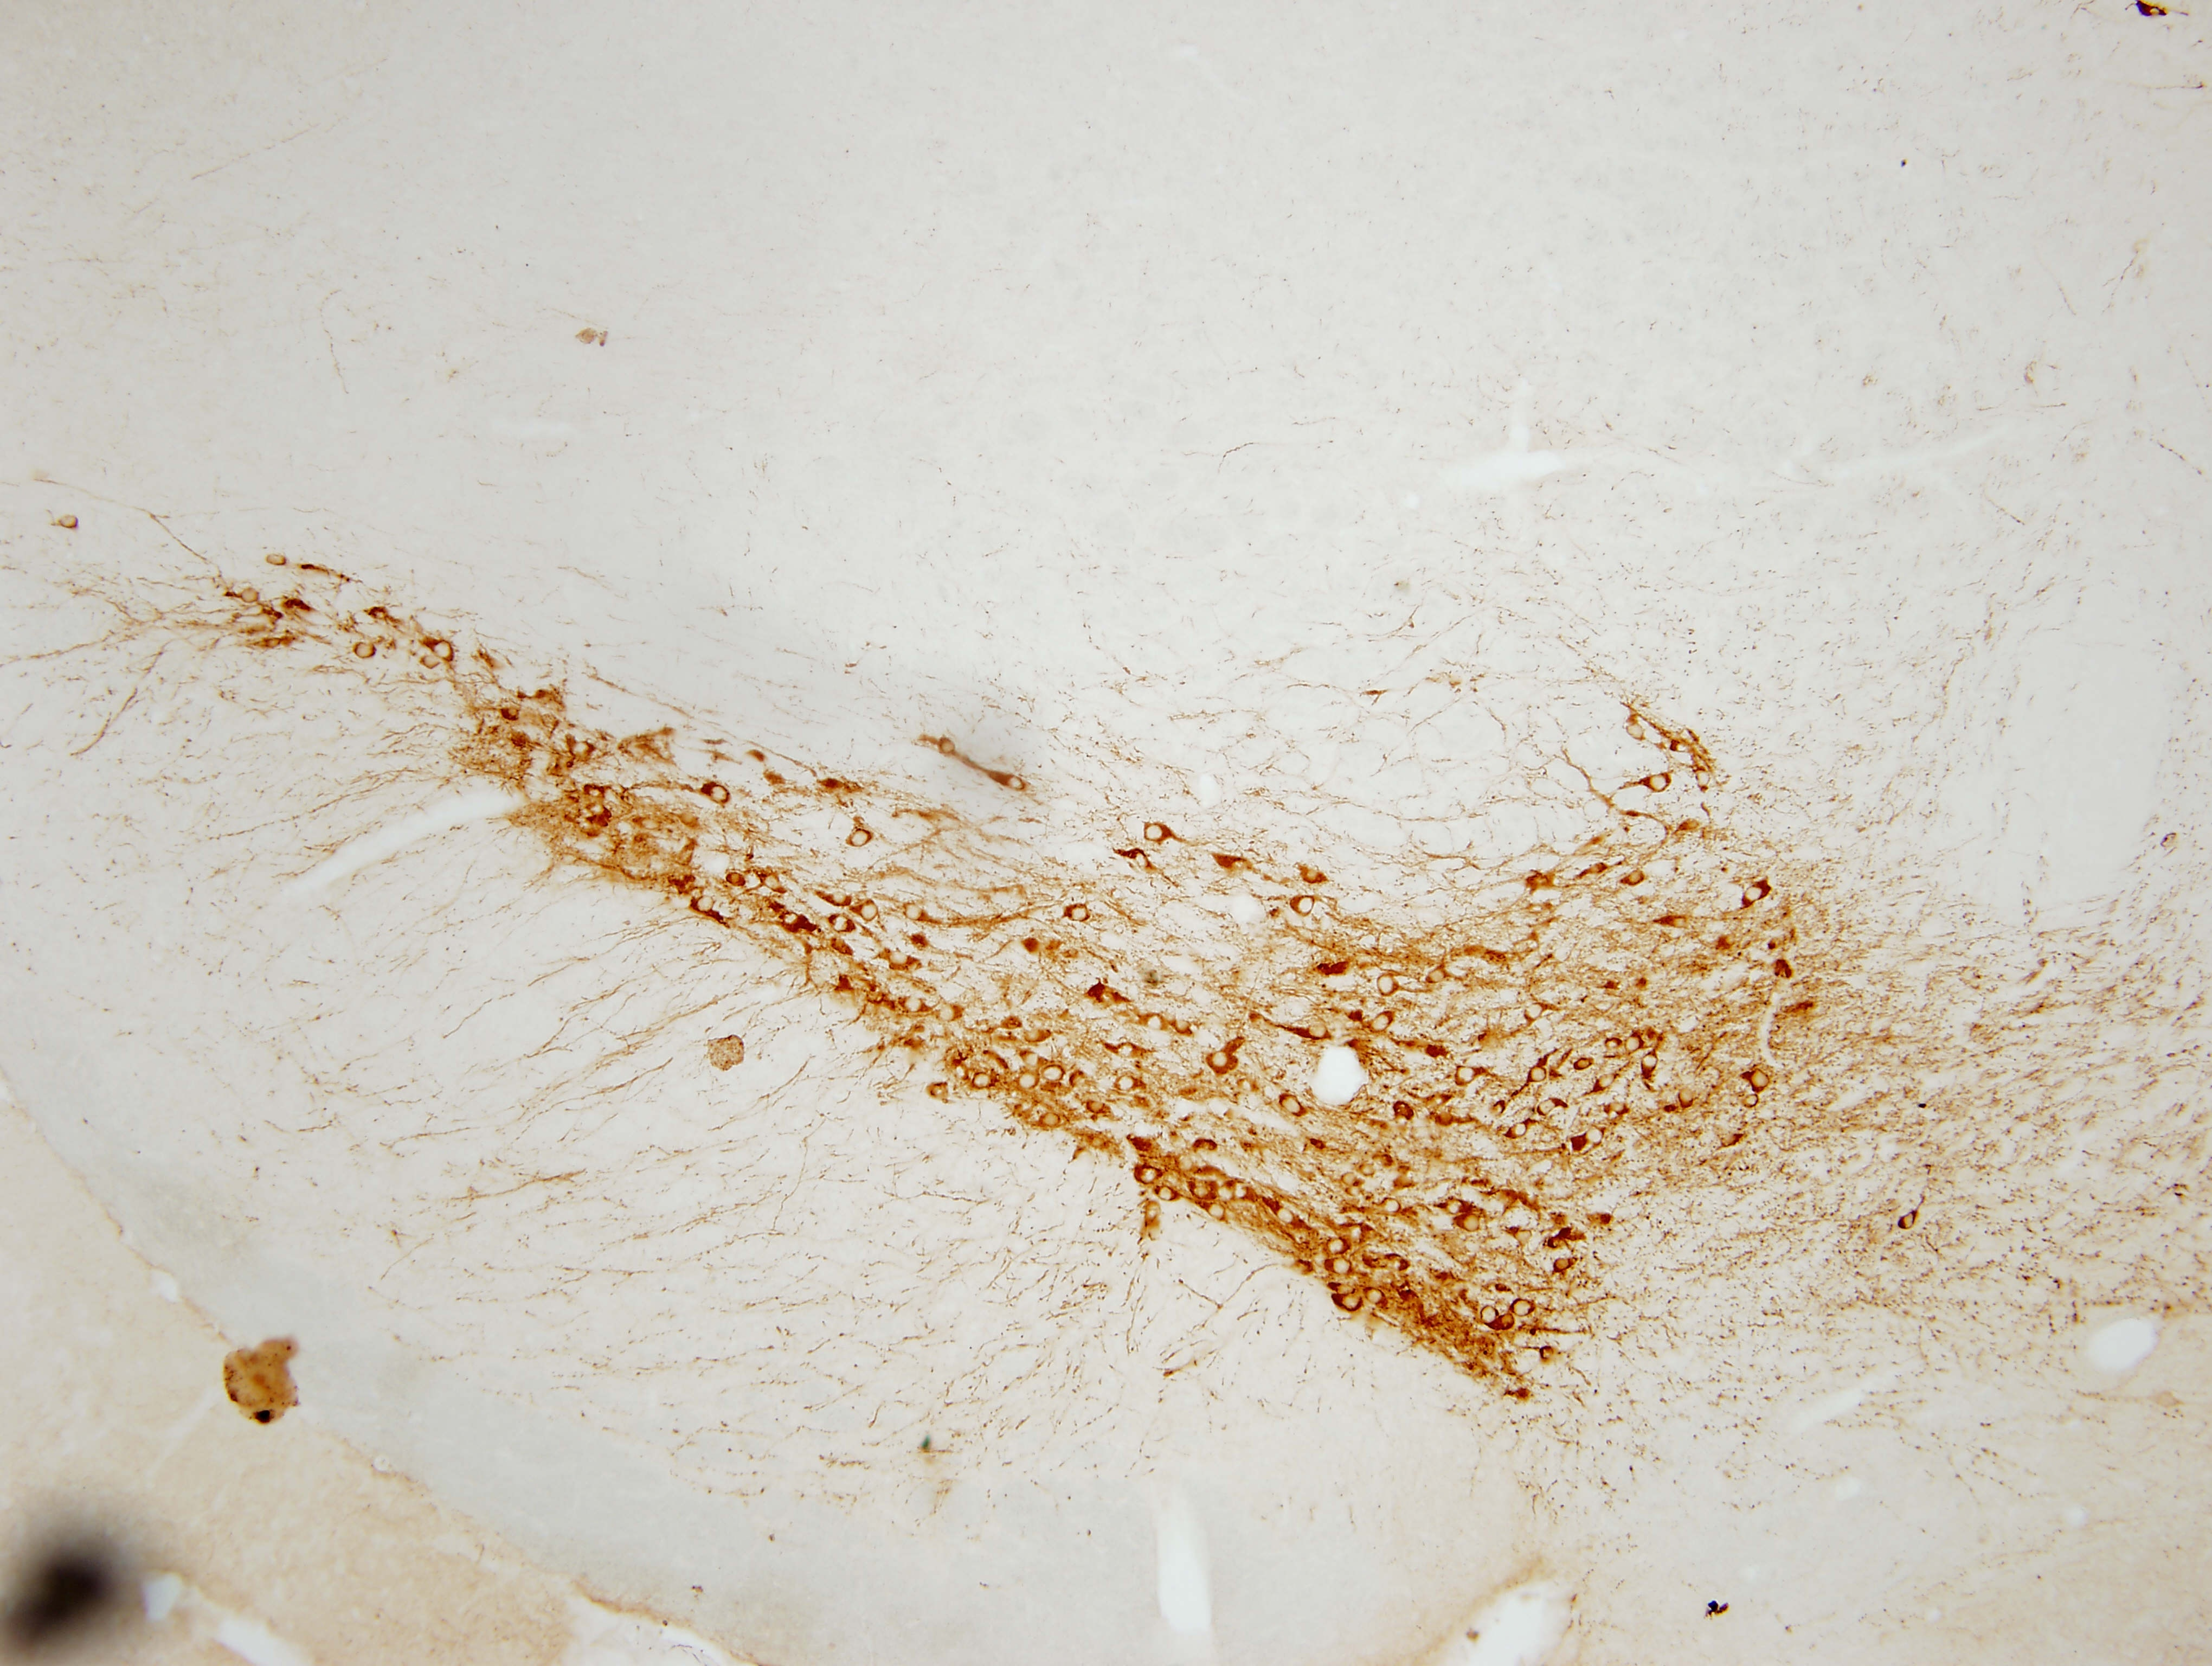neuron: (56, 509, 82, 535), (692, 891, 719, 917), (706, 782, 733, 808), (831, 886, 857, 912), (831, 912, 857, 938), (859, 900, 885, 926), (887, 947, 913, 973), (901, 992, 927, 1019), (901, 900, 927, 926), (936, 999, 962, 1026), (970, 1069, 997, 1096), (1018, 1069, 1044, 1096), (1019, 1046, 1046, 1073), (1039, 1108, 1065, 1134), (1040, 1061, 1067, 1087), (1067, 901, 1093, 928), (1116, 1071, 1142, 1097), (1116, 1038, 1142, 1064), (1130, 847, 1156, 873), (1138, 1199, 1165, 1225), (1142, 1010, 1168, 1036), (1208, 1048, 1235, 1074), (1280, 1092, 1306, 1118), (1325, 1232, 1352, 1258), (1329, 1253, 1355, 1279), (1338, 1290, 1364, 1316), (1364, 1283, 1390, 1309), (1369, 1010, 1395, 1036), (1374, 973, 1401, 999), (1378, 1192, 1404, 1218), (1425, 963, 1451, 989), (1453, 1062, 1479, 1089), (1460, 1211, 1486, 1237), (1495, 1311, 1521, 1337), (1511, 1295, 1537, 1321), (1523, 999, 1549, 1026), (1537, 1094, 1563, 1120), (1582, 1123, 1609, 1150), (1595, 1067, 1621, 1094), (1647, 768, 1673, 795), (1742, 882, 1768, 908), (1749, 1069, 1775, 1096), (238, 583, 264, 609), (264, 548, 290, 574), (353, 639, 379, 665), (420, 649, 446, 676), (434, 637, 460, 663), (570, 737, 595, 763), (848, 826, 873, 852), (1137, 1162, 1161, 1188), (1292, 893, 1317, 919), (1306, 1020, 1331, 1046), (1478, 1302, 1502, 1328), (1624, 719, 1651, 744), (1640, 1050, 1665, 1076), (1145, 821, 1170, 845), (1334, 1278, 1355, 1299), (782, 908, 801, 929), (937, 737, 956, 758), (1276, 1206, 1297, 1225), (1341, 1171, 1362, 1190), (1528, 1066, 1549, 1085), (1553, 1255, 1572, 1276), (1576, 1054, 1595, 1074), (1603, 1036, 1624, 1055), (1626, 866, 1647, 886), (586, 782, 605, 801), (589, 800, 609, 819), (727, 870, 747, 889), (764, 873, 783, 893), (1007, 773, 1026, 793), (1088, 1096, 1107, 1115), (1156, 1185, 1175, 1204), (1173, 1017, 1193, 1036), (1208, 1202, 1228, 1222), (1217, 1185, 1236, 1204), (1231, 1181, 1250, 1200), (1303, 868, 1322, 887), (1360, 1160, 1380, 1179), (1444, 1197, 1464, 1216), (1511, 1120, 1530, 1139), (1610, 1099, 1630, 1118), (1626, 1034, 1645, 1054), (1670, 914, 1689, 933), (1677, 1089, 1696, 1108), (1743, 1092, 1763, 1111), (1899, 1211, 1918, 1230)
